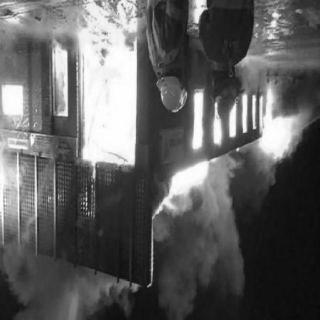Fire: (2, 38, 304, 220)
Smoke: (15, 265, 112, 313), (176, 226, 242, 284)
